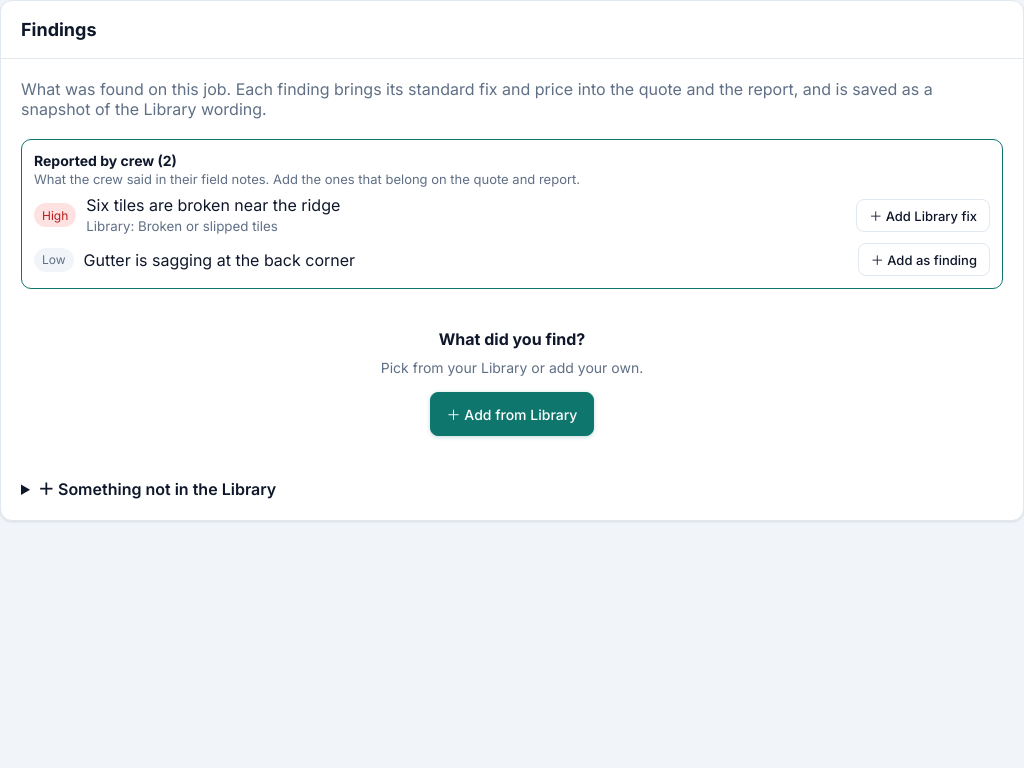
Test: FindingsPanel — Reported by crew › does not add the same issue twice, and shows nothing when the crew reported nothing
Click the button "＋ Add as finding".
click(924, 260)  # box [858,243,990,276]
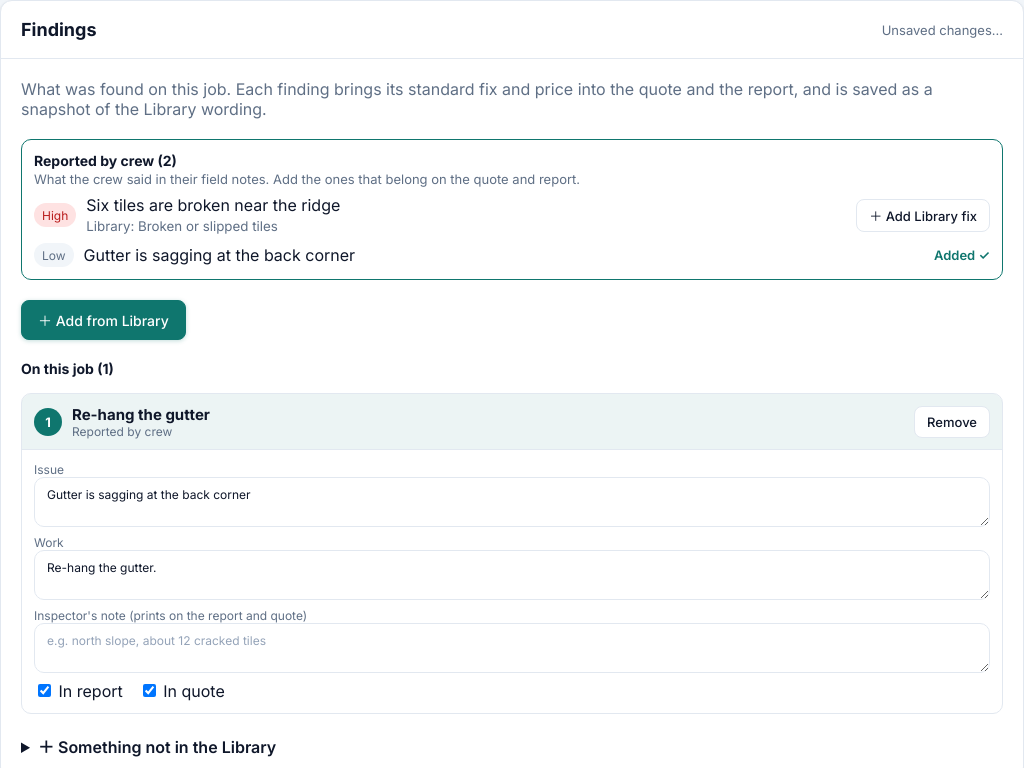
Expected: the button "＋ Add as finding" is gone
